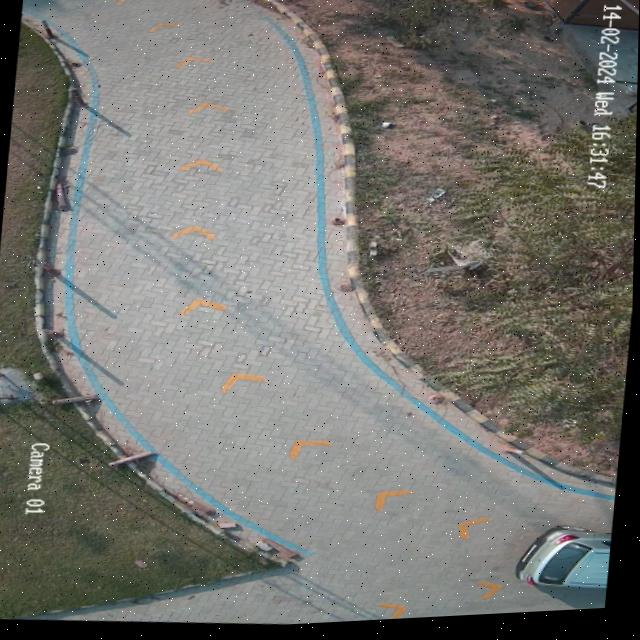car: (516, 531, 614, 596)
